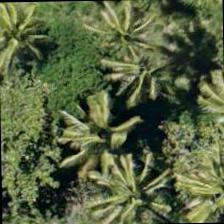Kelapa_Sawit: (80, 0, 172, 79), (88, 155, 180, 223), (0, 1, 61, 79), (178, 145, 223, 224)
